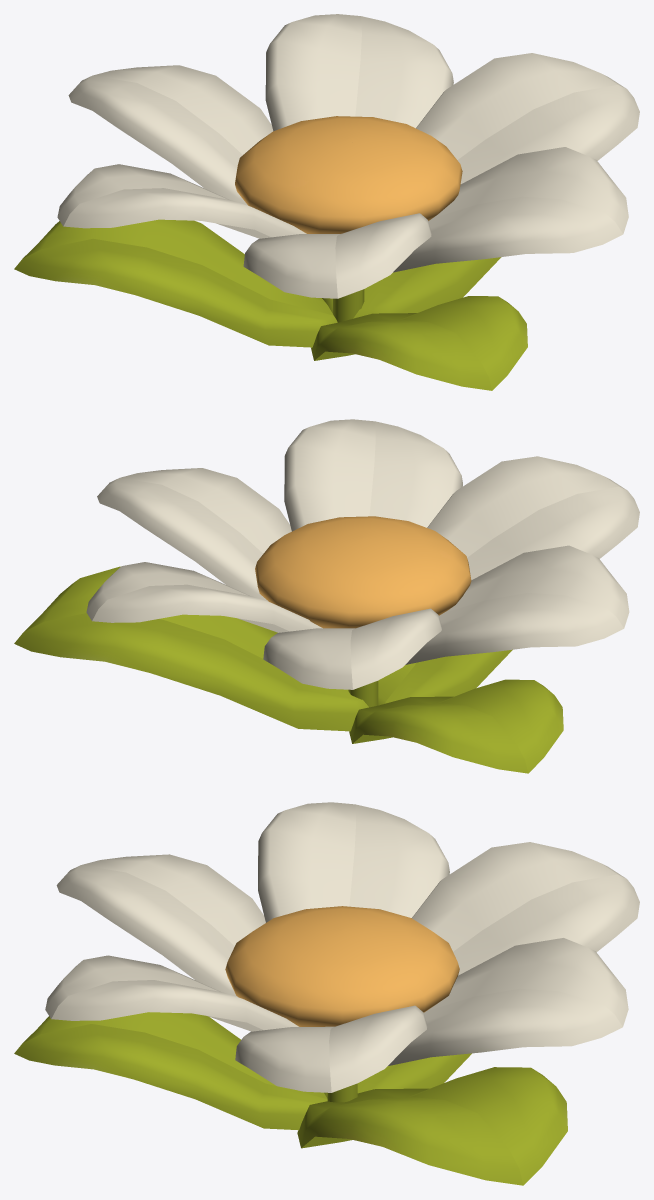
The model's file is Flower_idle.fbx.
3 renders of one model, top to bottom at view 1: azimuth 30°, elevation 25°; view 2: azimuth 150°, elevation 25°; view 3: azimuth 270°, elevation 25°, orthographic. The views are drawn at different scales.
Visible parts, largest first — view 1: center, leave001, petal 01, petal 002, petal 006, petal 005, leave002, petal 003, petal 004, leave, caule; view 2: leave, center, petal 003, petal 004, petal 002, petal 01, leave001, petal 005, petal 006, leave002; view 3: center, leave, petal 005, petal 006, petal 004, leave002, petal 003, petal 01, petal 002, leave001.
Boxes of the visible parts, left/top/right/bottom form: center: left=235, top=116, right=462, bottom=233; leave001: left=14, top=219, right=337, bottom=347; petal 01: left=416, top=53, right=639, bottom=183; petal 002: left=393, top=147, right=628, bottom=272; petal 006: left=265, top=14, right=453, bottom=131; petal 005: left=68, top=65, right=273, bottom=205; leave002: left=311, top=296, right=527, bottom=390; petal 003: left=243, top=213, right=431, bottom=298; petal 004: left=57, top=164, right=306, bottom=238; leave: left=322, top=257, right=501, bottom=318; caule: left=333, top=289, right=364, bottom=322; leave: left=14, top=566, right=368, bottom=731; center: left=255, top=516, right=471, bottom=628; petal 003: left=427, top=456, right=639, bottom=579; petal 004: left=405, top=545, right=629, bottom=664; petal 002: left=284, top=419, right=462, bottom=531; petal 01: left=97, top=468, right=291, bottom=601; leave001: left=349, top=679, right=563, bottom=773; petal 005: left=263, top=608, right=441, bottom=689; petal 006: left=86, top=562, right=322, bottom=632; leave002: left=378, top=649, right=512, bottom=705; center: left=225, top=906, right=459, bottom=1026; leave: left=297, top=1067, right=567, bottom=1185; petal 005: left=412, top=842, right=639, bottom=975; petal 006: left=388, top=938, right=628, bottom=1065; petal 004: left=258, top=802, right=449, bottom=922; leave002: left=14, top=1012, right=327, bottom=1130; petal 003: left=56, top=854, right=265, bottom=996; petal 01: left=235, top=1005, right=427, bottom=1092; petal 002: left=45, top=955, right=298, bottom=1031; leave001: left=324, top=1053, right=471, bottom=1098.
Size of the model in its own units: 57.28 by 20.9 by 54.31.
